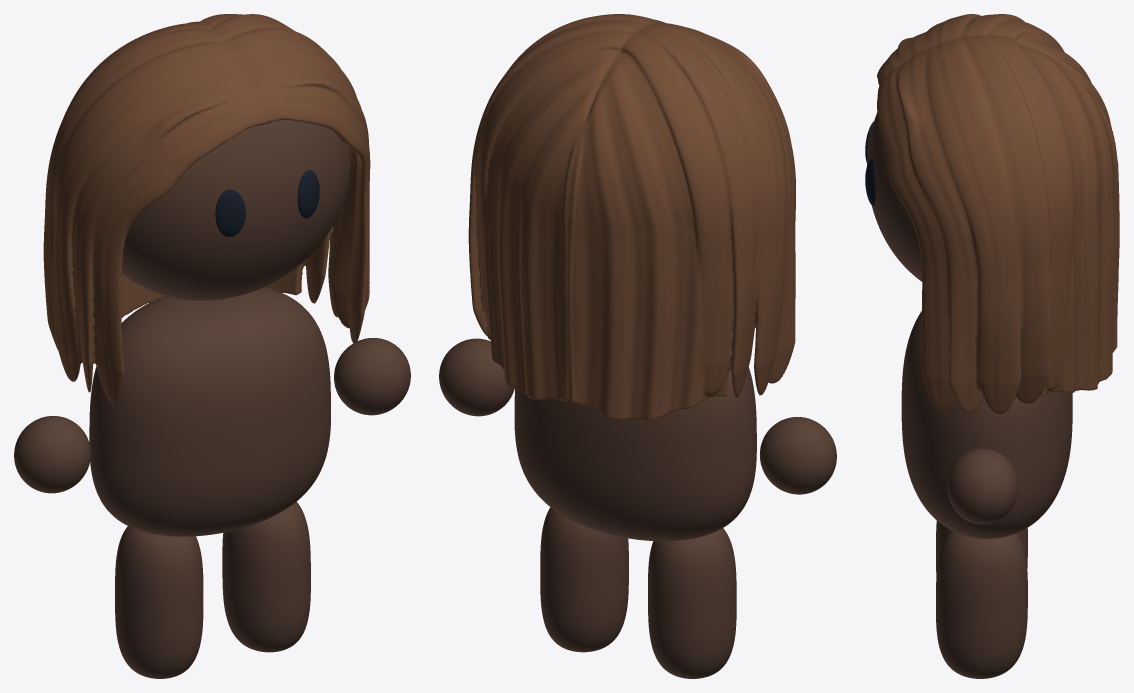
Rendered from Feminine-skin3.glb.
The picture shows the model from 3 angles, left to right: view 1: azimuth 30°, elevation 25°; view 2: azimuth 150°, elevation 25°; view 3: azimuth 270°, elevation 25°; orthographic projection. The views are drawn at different scales.
Visible parts, largest first — view 1: Hair / Straight blended sculpt, Skin / compact torso with skirt outline, Skin / soft oval head, Skin / leg -1, Skin / leg 1, Skin / hand -1, Skin / hand 1, Eye / dark oval -1, Eye / dark oval 1; view 2: Hair / Straight blended sculpt, Skin / compact torso with skirt outline, Skin / leg -1, Skin / leg 1, Skin / hand -1, Skin / hand 1; view 3: Hair / Straight blended sculpt, Skin / compact torso with skirt outline, Skin / leg 1, Skin / hand 1, Skin / soft oval head, Skin / leg -1, Eye / dark oval 1.
Boxes of the visible parts, x1,y1,x2,y2 form: Hair / Straight blended sculpt: [43, 14, 370, 402]; Skin / compact torso with skirt outline: [89, 287, 330, 536]; Skin / soft oval head: [122, 119, 351, 300]; Skin / leg -1: [115, 526, 203, 678]; Skin / leg 1: [222, 501, 310, 652]; Skin / hand -1: [14, 416, 90, 493]; Skin / hand 1: [334, 338, 410, 415]; Eye / dark oval -1: [215, 189, 245, 236]; Eye / dark oval 1: [297, 170, 319, 218]; Hair / Straight blended sculpt: [468, 14, 795, 420]; Skin / compact torso with skirt outline: [514, 367, 756, 541]; Skin / leg -1: [648, 528, 736, 678]; Skin / leg 1: [540, 507, 628, 652]; Skin / hand -1: [760, 417, 836, 494]; Skin / hand 1: [439, 338, 514, 416]; Hair / Straight blended sculpt: [877, 14, 1119, 414]; Skin / compact torso with skirt outline: [901, 311, 1072, 538]; Skin / leg 1: [936, 530, 1027, 678]; Skin / hand 1: [947, 448, 1018, 524]; Skin / soft oval head: [867, 112, 922, 281]; Skin / leg -1: [936, 520, 1027, 574]; Eye / dark oval 1: [865, 158, 876, 205].
Size of the model in its own units: 1.49 by 2.31 by 0.8691.
